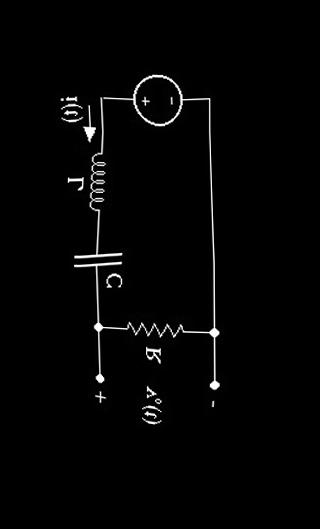Battery: (119, 60, 193, 147)
